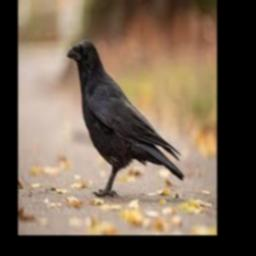Crow: (66, 40, 184, 199)
